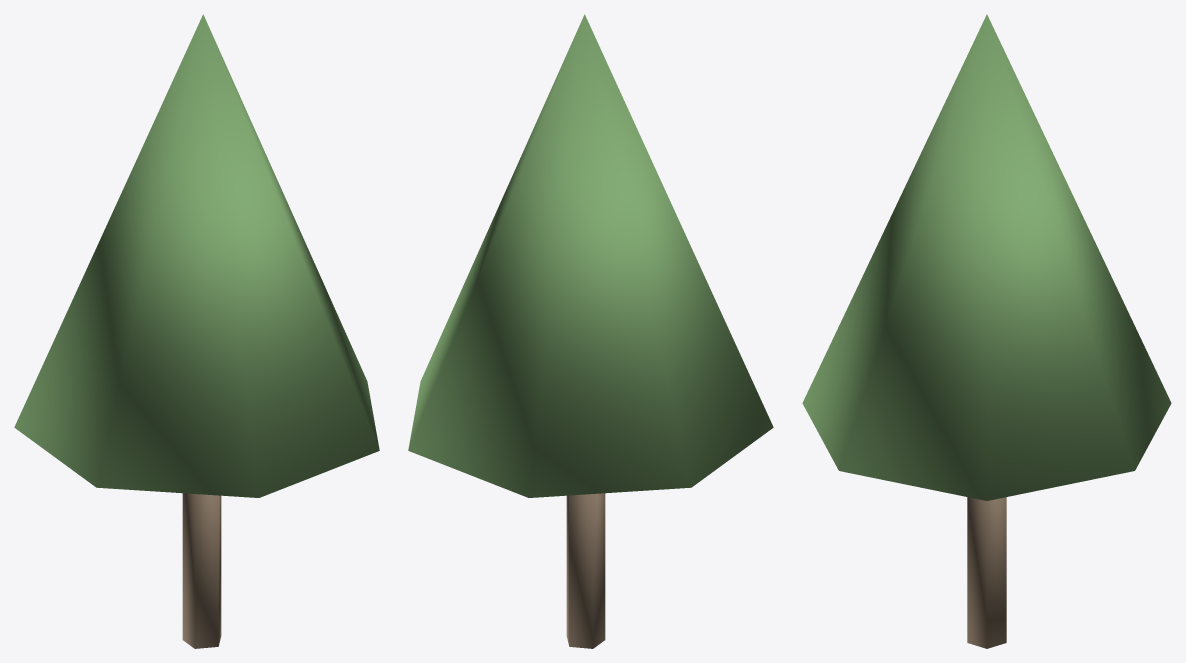
The model's file is ambient_tree_19.glb.
The picture shows the model from 3 angles, left to right: view 1: azimuth 30°, elevation 25°; view 2: azimuth 150°, elevation 25°; view 3: azimuth 270°, elevation 25°; orthographic projection.
Parts seen in each view (by area): view 1: ambient_tree_19; view 2: ambient_tree_19; view 3: ambient_tree_19.
Part boxes in pixels (left/top/right/bottom): ambient_tree_19: left=14, top=14, right=379, bottom=648; ambient_tree_19: left=408, top=14, right=773, bottom=648; ambient_tree_19: left=802, top=14, right=1171, bottom=648.
Bounding box in the file's own units: 1.05 × 2.01 × 1.07.
